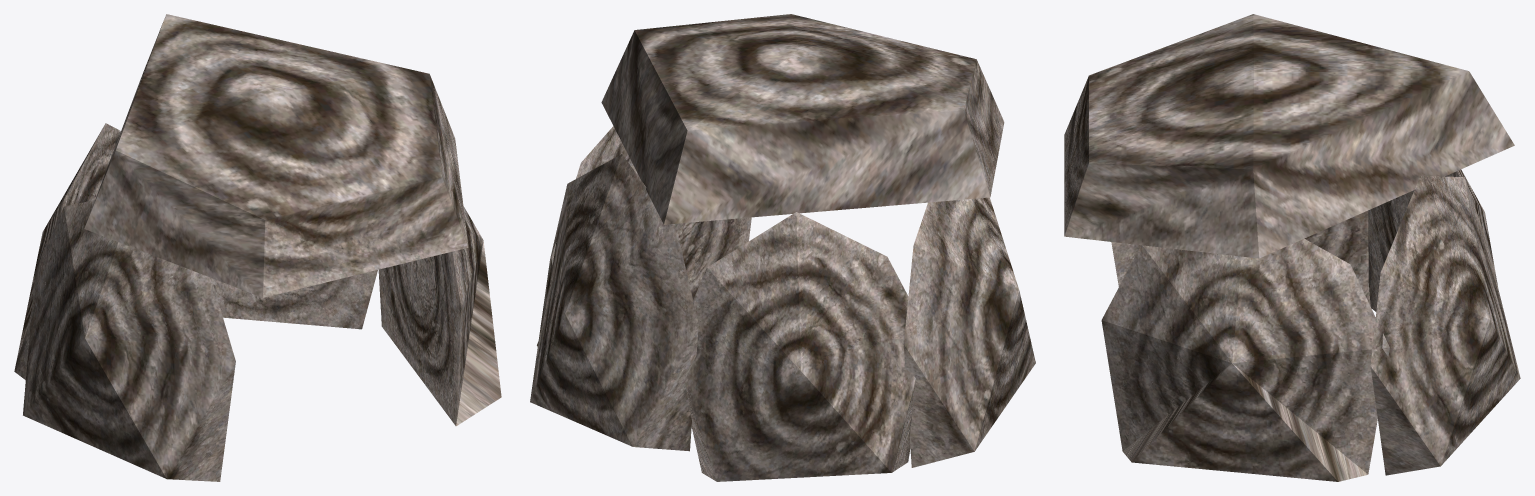
File: thm_dath_mtn_clan_tent_house_s01_l3.fbx
3 renders of one model, left to right at view 1: azimuth 30°, elevation 25°; view 2: azimuth 150°, elevation 25°; view 3: azimuth 270°, elevation 25°, orthographic. The views are drawn at different scales.
Visible parts, largest first — view 1: mesh_node; view 2: mesh_node; view 3: mesh_node.
Boxes of the visible parts, x1=… form: mesh_node: x1=14, y1=14, x2=501, y2=481; mesh_node: x1=530, y1=14, x2=1035, y2=481; mesh_node: x1=1064, y1=14, x2=1520, y2=481.
Size of the model in its own units: 11.4 by 8.44 by 10.64.
Materials: 2 (2 with a texture image).
